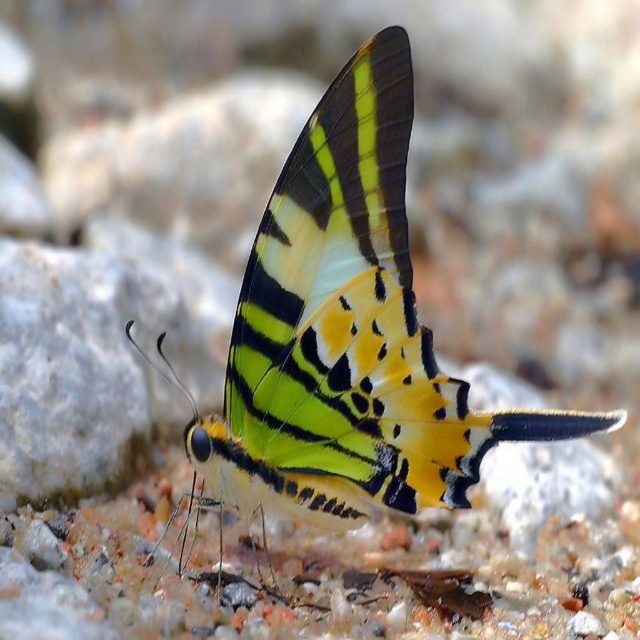Butterfly: (125, 24, 629, 610)
